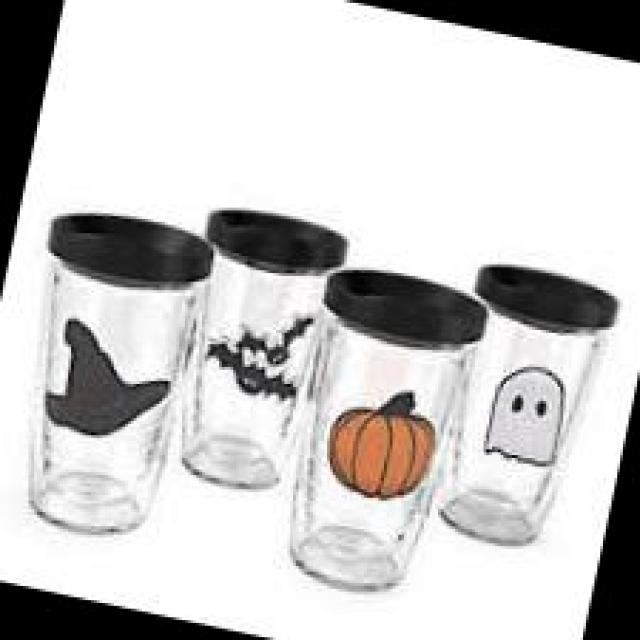bottle: (256, 252, 495, 607), (0, 193, 225, 558), (415, 251, 629, 564), (144, 191, 354, 506)
